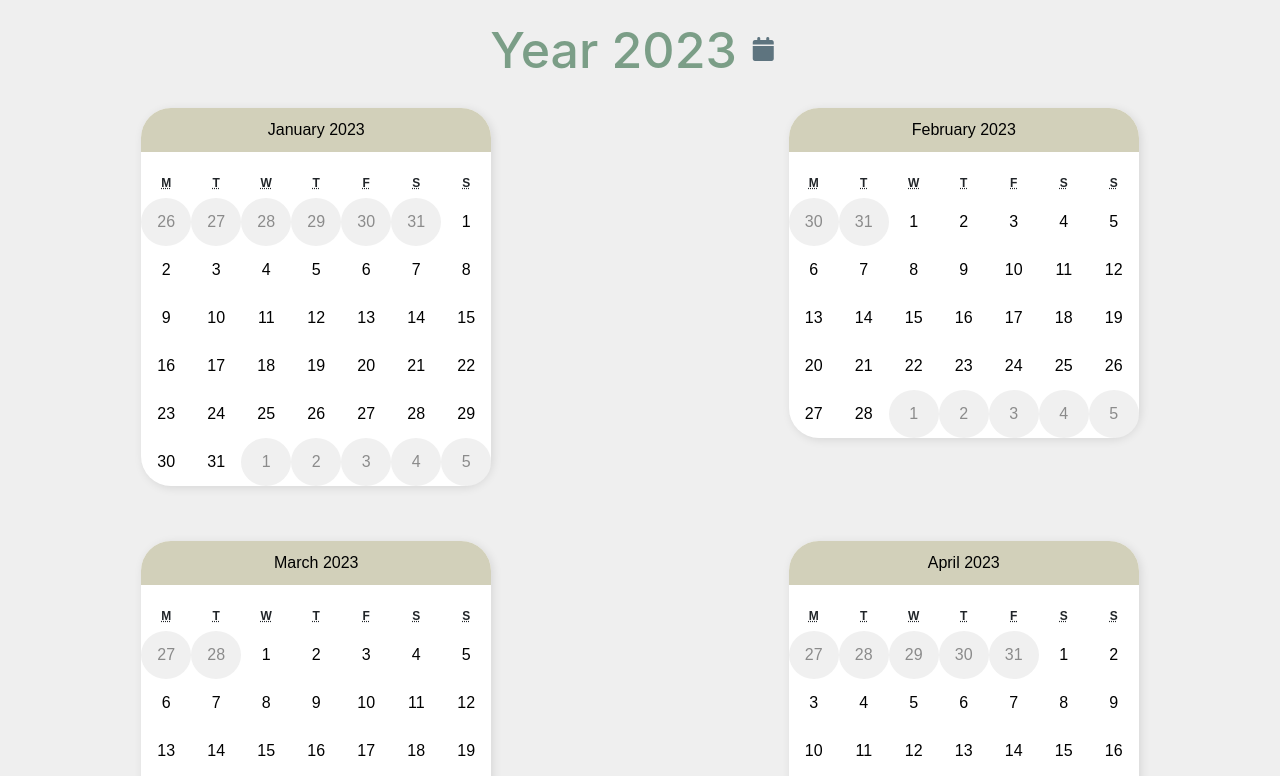
Scenario: YearlyCalendar › toggles year picker on calendar icon click
This screenshot has width=1280, height=776.
Click the button named "Select Year".
click(763, 44)  # box [747, 26, 780, 62]
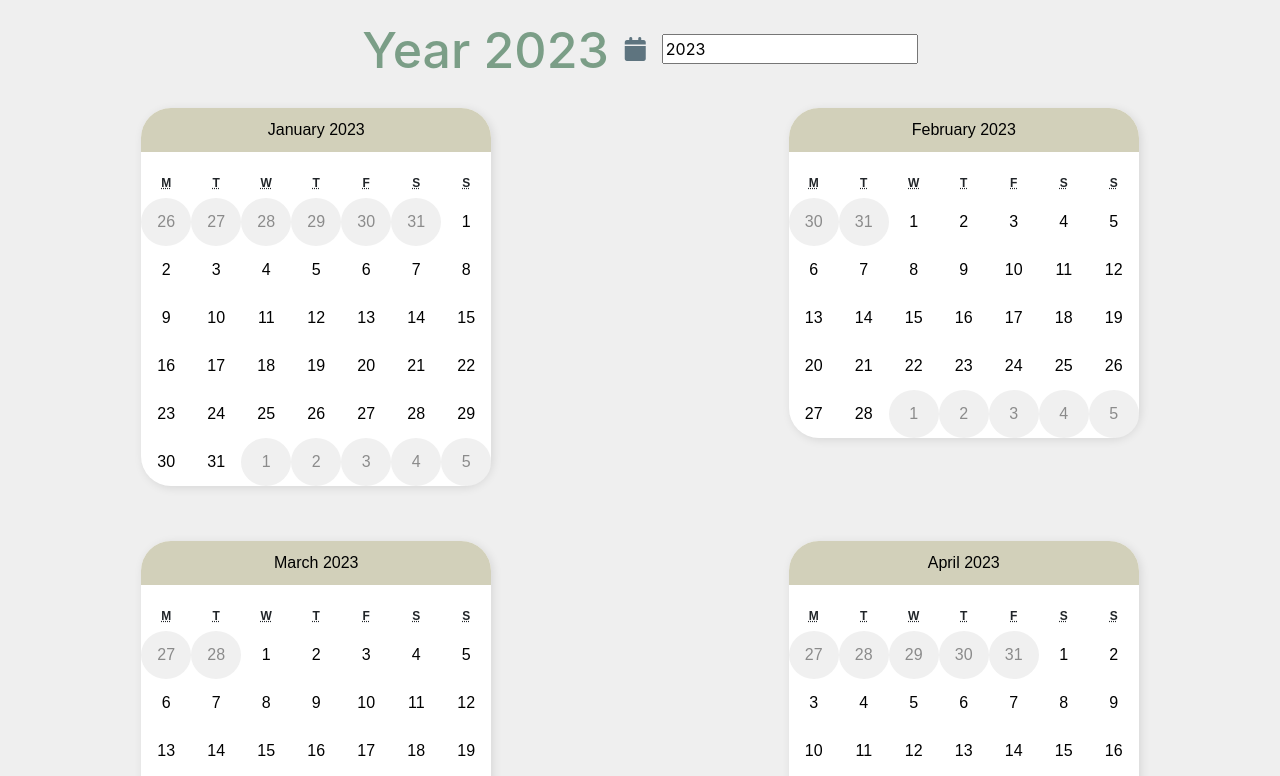
Now the field is shown
// Click on the DatePicker to show the year range
Click the field.
click(790, 49)  # box [662, 34, 918, 64]
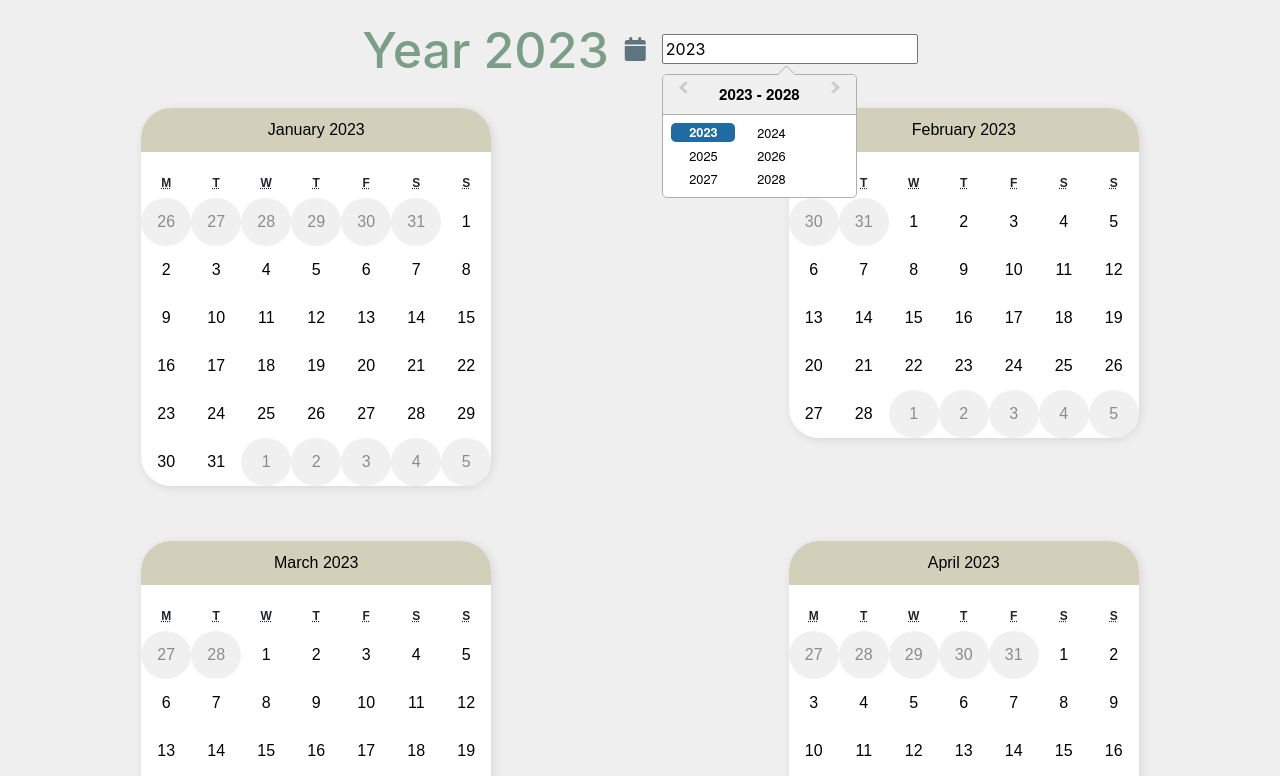
Now the text "2023" is shown, box [671, 123, 735, 142]
